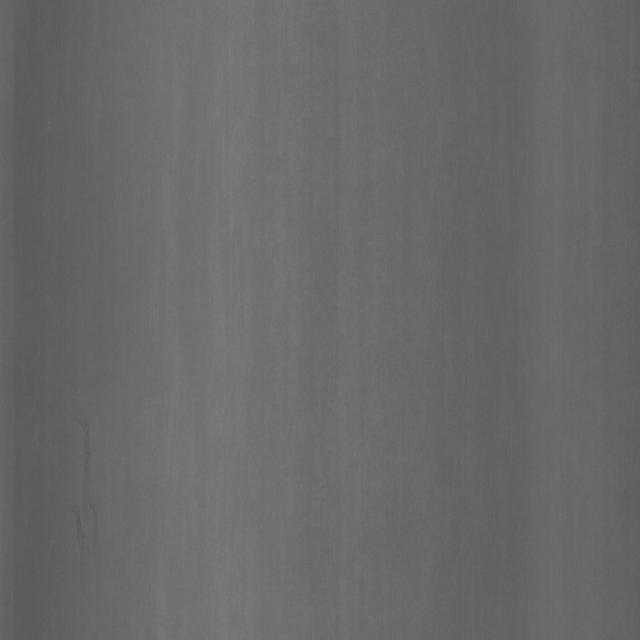water_spot: (71, 384, 108, 565)
